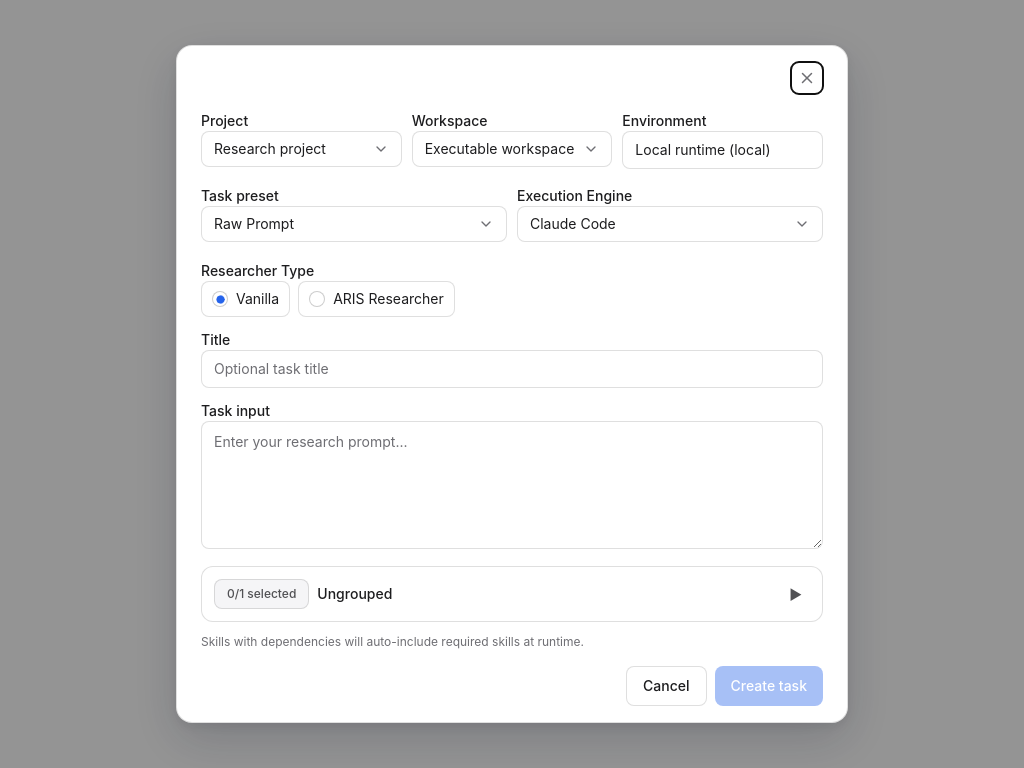
Test: TaskCreateFlow › excludes manifest-disabled skills from task selection
Expected: the button "0/1 selected" is shown, x1=214 y1=579 x2=309 y2=609
Click the button named "Show skills in Ungrouped" at {"x": 796, "y": 594}, box x1=781 y1=580 x2=810 y2=608
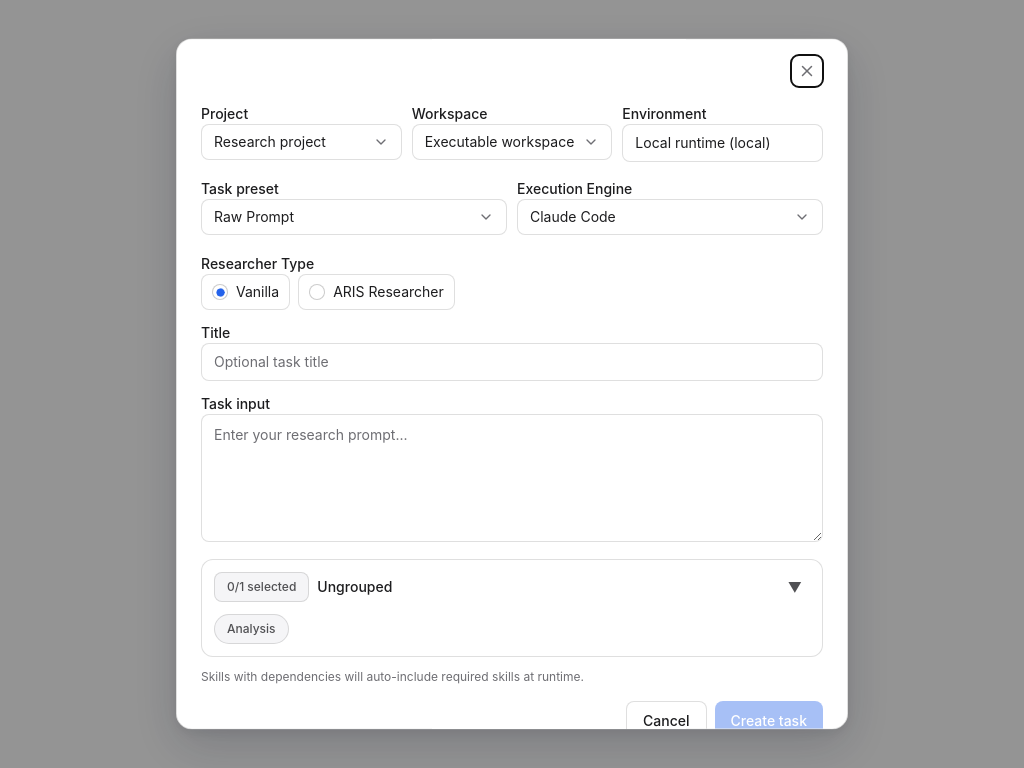
Expected: the button with aria-label "Select Analysis" is shown, x1=214 y1=614 x2=288 y2=644
